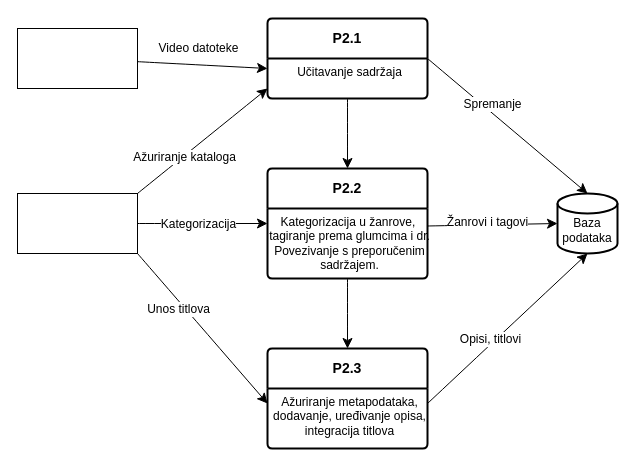
Image size: 636x466. Some labels were removed from this diagram. Each missing label, with the centre of its shape:
Administrator: [77,223]
Dobavljač sadržaja: [77,58]
